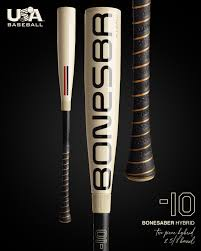baseball bat: (82, 6, 123, 251), (124, 1, 158, 183), (54, 6, 77, 224)
